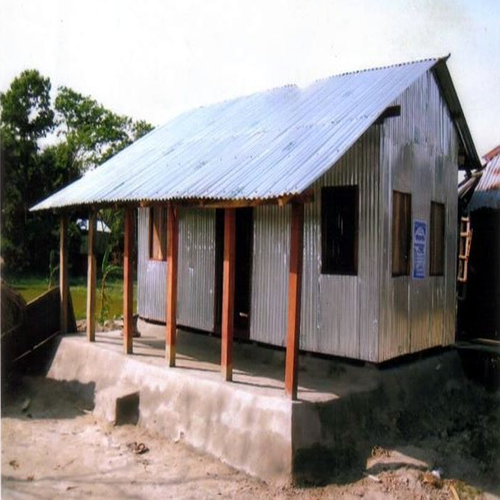Tin-shade House: (49, 61, 477, 387)
